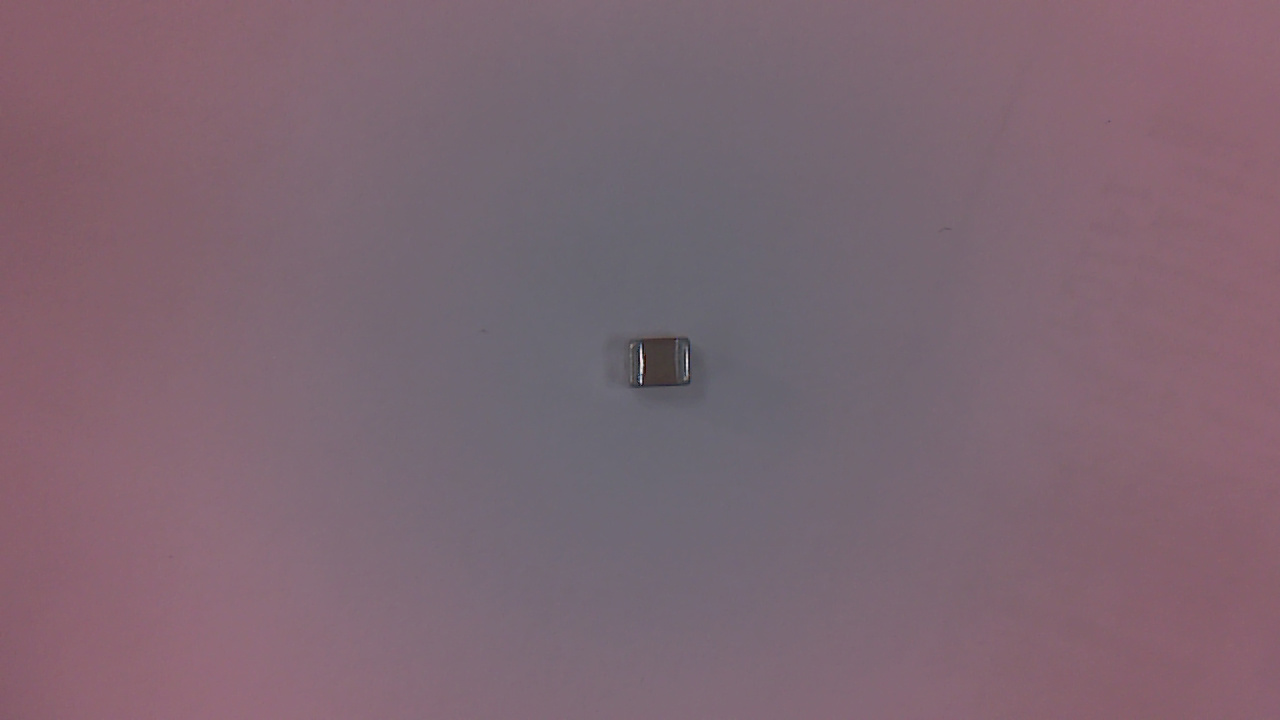Condensator: (627, 338, 701, 398)
